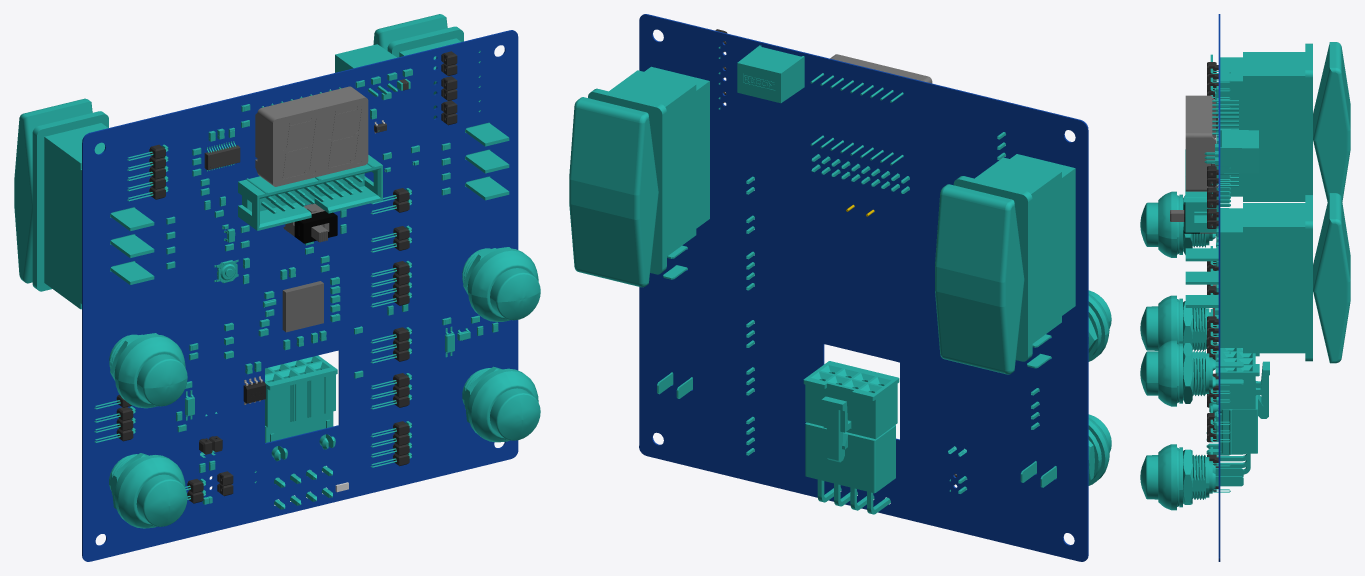
Rendered from steering-wheel.glb.
3 renders of one model, left to right at view 1: azimuth 30°, elevation 25°; view 2: azimuth 150°, elevation 25°; view 3: azimuth 270°, elevation 25°, orthographic. The views are drawn at different scales.
Size of the model in its own units: 115 by 108 by 55.56.
